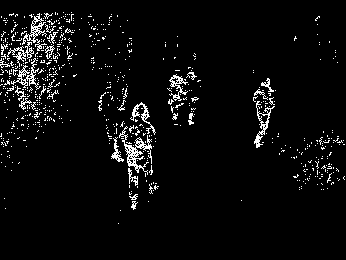person: (110, 103, 159, 210), (251, 78, 276, 149), (183, 71, 201, 126), (168, 71, 184, 126)
